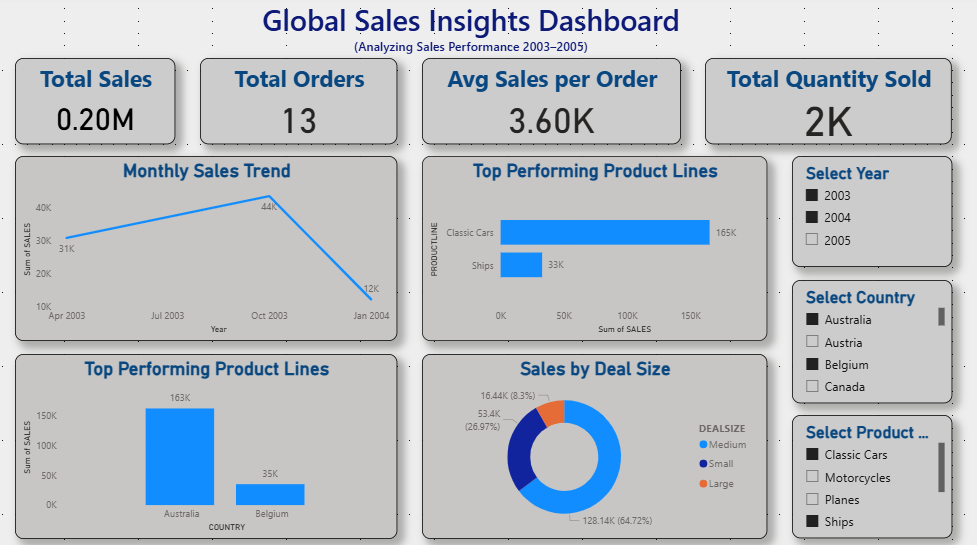

The dashboard page shown, as its layout file describes it:
{"tool":"powerbi","page":{"name":"Page 1","canvas":[1280,720],"ordinal":0},"visuals":[{"type":"textbox","box":[0,0,1248,80],"z":0},{"type":"card","title":"Total Sales","fields":{"Values":["Sum(sales_data_sample.SALES)"]},"box":[32,80,208,112],"z":1000},{"type":"card","title":"Total Orders","fields":{"Values":["Count(sales_data_sample.ORDERNUMBER)"]},"box":[272,80,256,112],"z":2000},{"type":"card","title":"Avg Sales per Order","fields":{"Values":["Avg(sales_data_sample.SALES)"]},"box":[560,80,336,112],"z":3000},{"type":"card","title":"Total Quantity Sold","fields":{"Values":["Sum(sales_data_sample.QUANTITYORDERED)"]},"box":[928,80,320,112],"z":4000},{"type":"lineChart","title":"Monthly Sales Trend","fields":{"Category":["sales_data_sample.ORDERDATE.Variation.Date Hierarchy.Year","sales_data_sample.ORDERDATE.Variation.Date Hierarchy.Quarter","sales_data_sample.ORDERDATE.Variation.Date Hierarchy.Month","sales_data_sample.ORDERDATE.Variation.Date Hierarchy.Day"],"Y":["Sum(sales_data_sample.SALES)"]},"box":[32,208,496,240],"z":5000},{"type":"clusteredBarChart","title":"Top Performing Product Lines","fields":{"Category":["sales_data_sample.PRODUCTLINE"],"Y":["Sum(sales_data_sample.SALES)"]},"box":[560,208,448,240],"z":6000},{"type":"clusteredColumnChart","title":"Top Performing Product Lines","fields":{"Category":["sales_data_sample.COUNTRY"],"Y":["Sum(sales_data_sample.SALES)"]},"box":[32,464,496,240],"z":7000},{"type":"donutChart","title":"Sales by Deal Size","fields":{"Category":["sales_data_sample.DEALSIZE"],"Y":["Sum(sales_data_sample.SALES)"]},"box":[560,464,448,240],"z":8000},{"type":"slicer","title":"Total Sales","fields":{"Values":["sales_data_sample.YEAR_ID"]},"box":[1040,208,208,144],"z":9000},{"type":"slicer","title":"Total Sales","fields":{"Values":["sales_data_sample.COUNTRY"]},"box":[1040,368,208,160],"z":10000},{"type":"slicer","title":"Total Sales","fields":{"Values":["sales_data_sample.PRODUCTLINE"]},"box":[1040,544,208,160],"z":11000}]}

Visuals, with their boxes in screenshot pixels (x1, y1, x2, y2), scaled from the page's 1280x720 canvas onto the 977x545 screenshot:
textbox: pyautogui.locateOnScreen(0, 0, 953, 61)
"Total Sales" card: pyautogui.locateOnScreen(24, 61, 183, 145)
"Total Orders" card: pyautogui.locateOnScreen(208, 61, 403, 145)
"Avg Sales per Order" card: pyautogui.locateOnScreen(427, 61, 684, 145)
"Total Quantity Sold" card: pyautogui.locateOnScreen(708, 61, 953, 145)
"Monthly Sales Trend" lineChart: pyautogui.locateOnScreen(24, 157, 403, 339)
"Top Performing Product Lines" clusteredBarChart: pyautogui.locateOnScreen(427, 157, 769, 339)
"Top Performing Product Lines" clusteredColumnChart: pyautogui.locateOnScreen(24, 351, 403, 533)
"Sales by Deal Size" donutChart: pyautogui.locateOnScreen(427, 351, 769, 533)
"Total Sales" slicer: pyautogui.locateOnScreen(794, 157, 953, 266)
"Total Sales" slicer: pyautogui.locateOnScreen(794, 279, 953, 400)
"Total Sales" slicer: pyautogui.locateOnScreen(794, 412, 953, 533)
